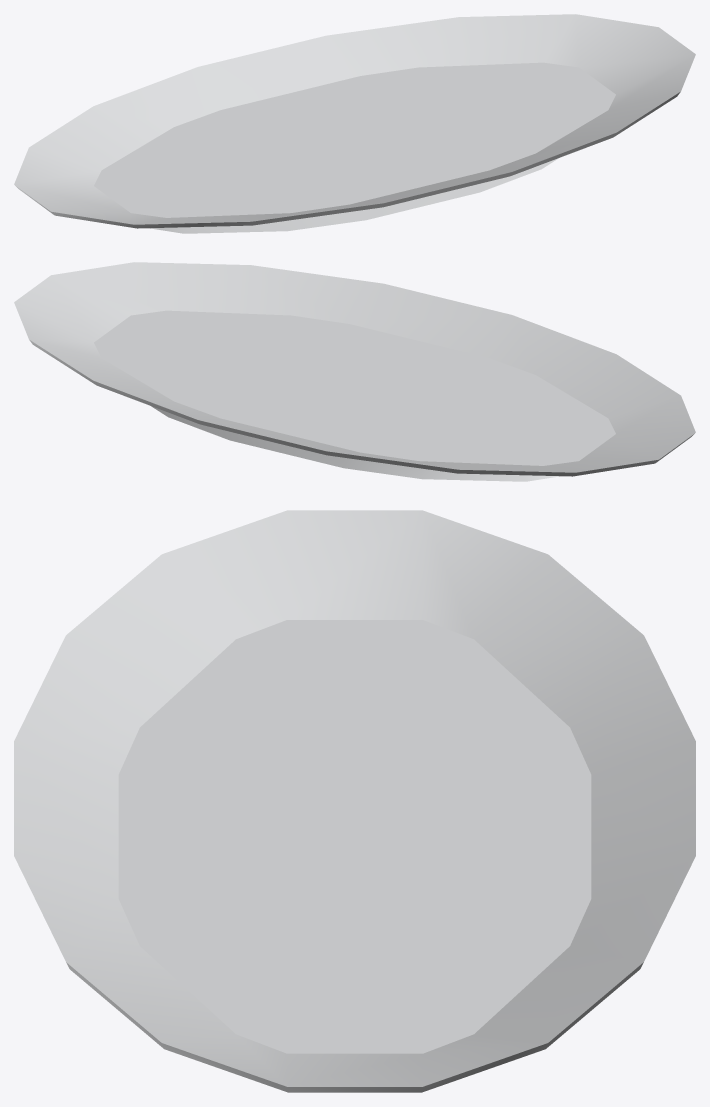
The model's file is cooking_assets_plate_oval.glb.
3 views of the same model, one above another, from view 1: azimuth 30°, elevation 25°; view 2: azimuth 150°, elevation 25°; view 3: azimuth 270°, elevation 25° (orthographic). The views are drawn at different scales.
Parts seen in each view (by area): view 1: plate_oval_Cylinder.098; view 2: plate_oval_Cylinder.098; view 3: plate_oval_Cylinder.098.
Part boxes in pixels (left/top/right/bottom): plate_oval_Cylinder.098: left=14, top=14, right=695, bottom=233; plate_oval_Cylinder.098: left=14, top=262, right=695, bottom=481; plate_oval_Cylinder.098: left=14, top=510, right=695, bottom=1092.
Size of the model in its own units: 3.3 by 0.1912 by 1.65.
Materials: 1 (1 with a texture image).
